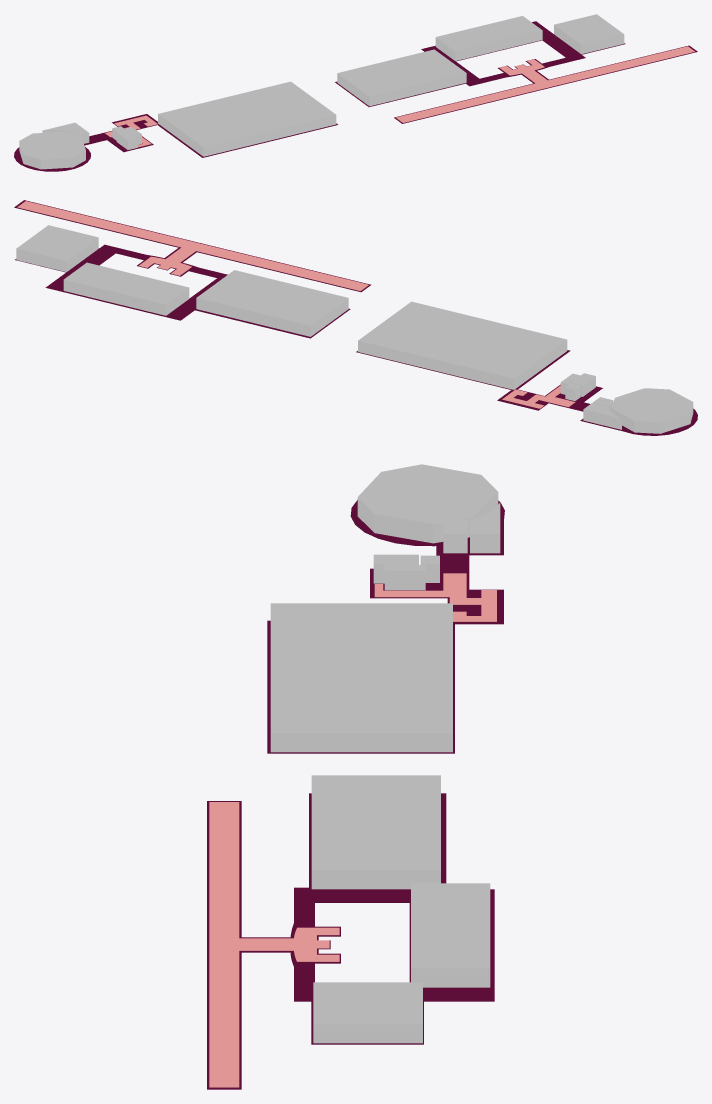
Rendered from njc-b1-v6-8-5.glb.
3 views of the same model, one above another, from view 1: azimuth 30°, elevation 25°; view 2: azimuth 150°, elevation 25°; view 3: azimuth 270°, elevation 25° (orthographic). The views are drawn at different scales.
Visible parts, largest first — view 1: None, Base, Foot, Mtoilet; view 2: None, Base, Foot, Mtoilet; view 3: None, Foot, Base, Mtoilet.
Boxes of the visible parts, x1=… form: None: x1=19, y1=14, x2=624, y2=169; Base: x1=14, y1=21, x2=697, y2=171; Foot: x1=105, y1=46, x2=694, y2=147; Mtoilet: x1=116, y1=127, x2=141, y2=149; None: x1=16, y1=225, x2=693, y2=433; Base: x1=14, y1=200, x2=697, y2=435; Foot: x1=17, y1=201, x2=575, y2=408; Mtoilet: x1=560, y1=373, x2=595, y2=396; None: x1=270, y1=464, x2=500, y2=1043; Foot: x1=209, y1=573, x2=496, y2=1087; Base: x1=207, y1=500, x2=504, y2=1089; Mtoilet: x1=373, y1=554, x2=425, y2=590.
Size of what is drawn, in the model's own units: 13.45 by 0.2 by 2.78.
